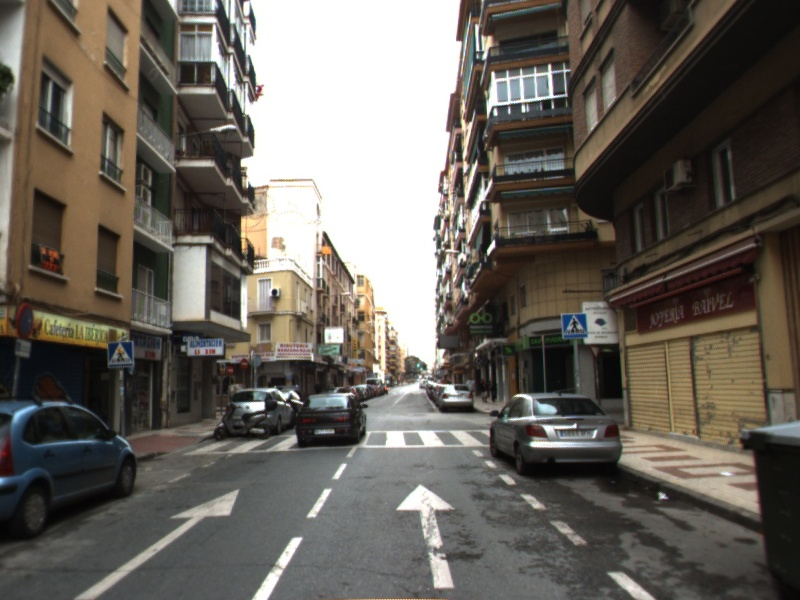STRAIGHT: (69, 484, 242, 600), (392, 480, 458, 591)
